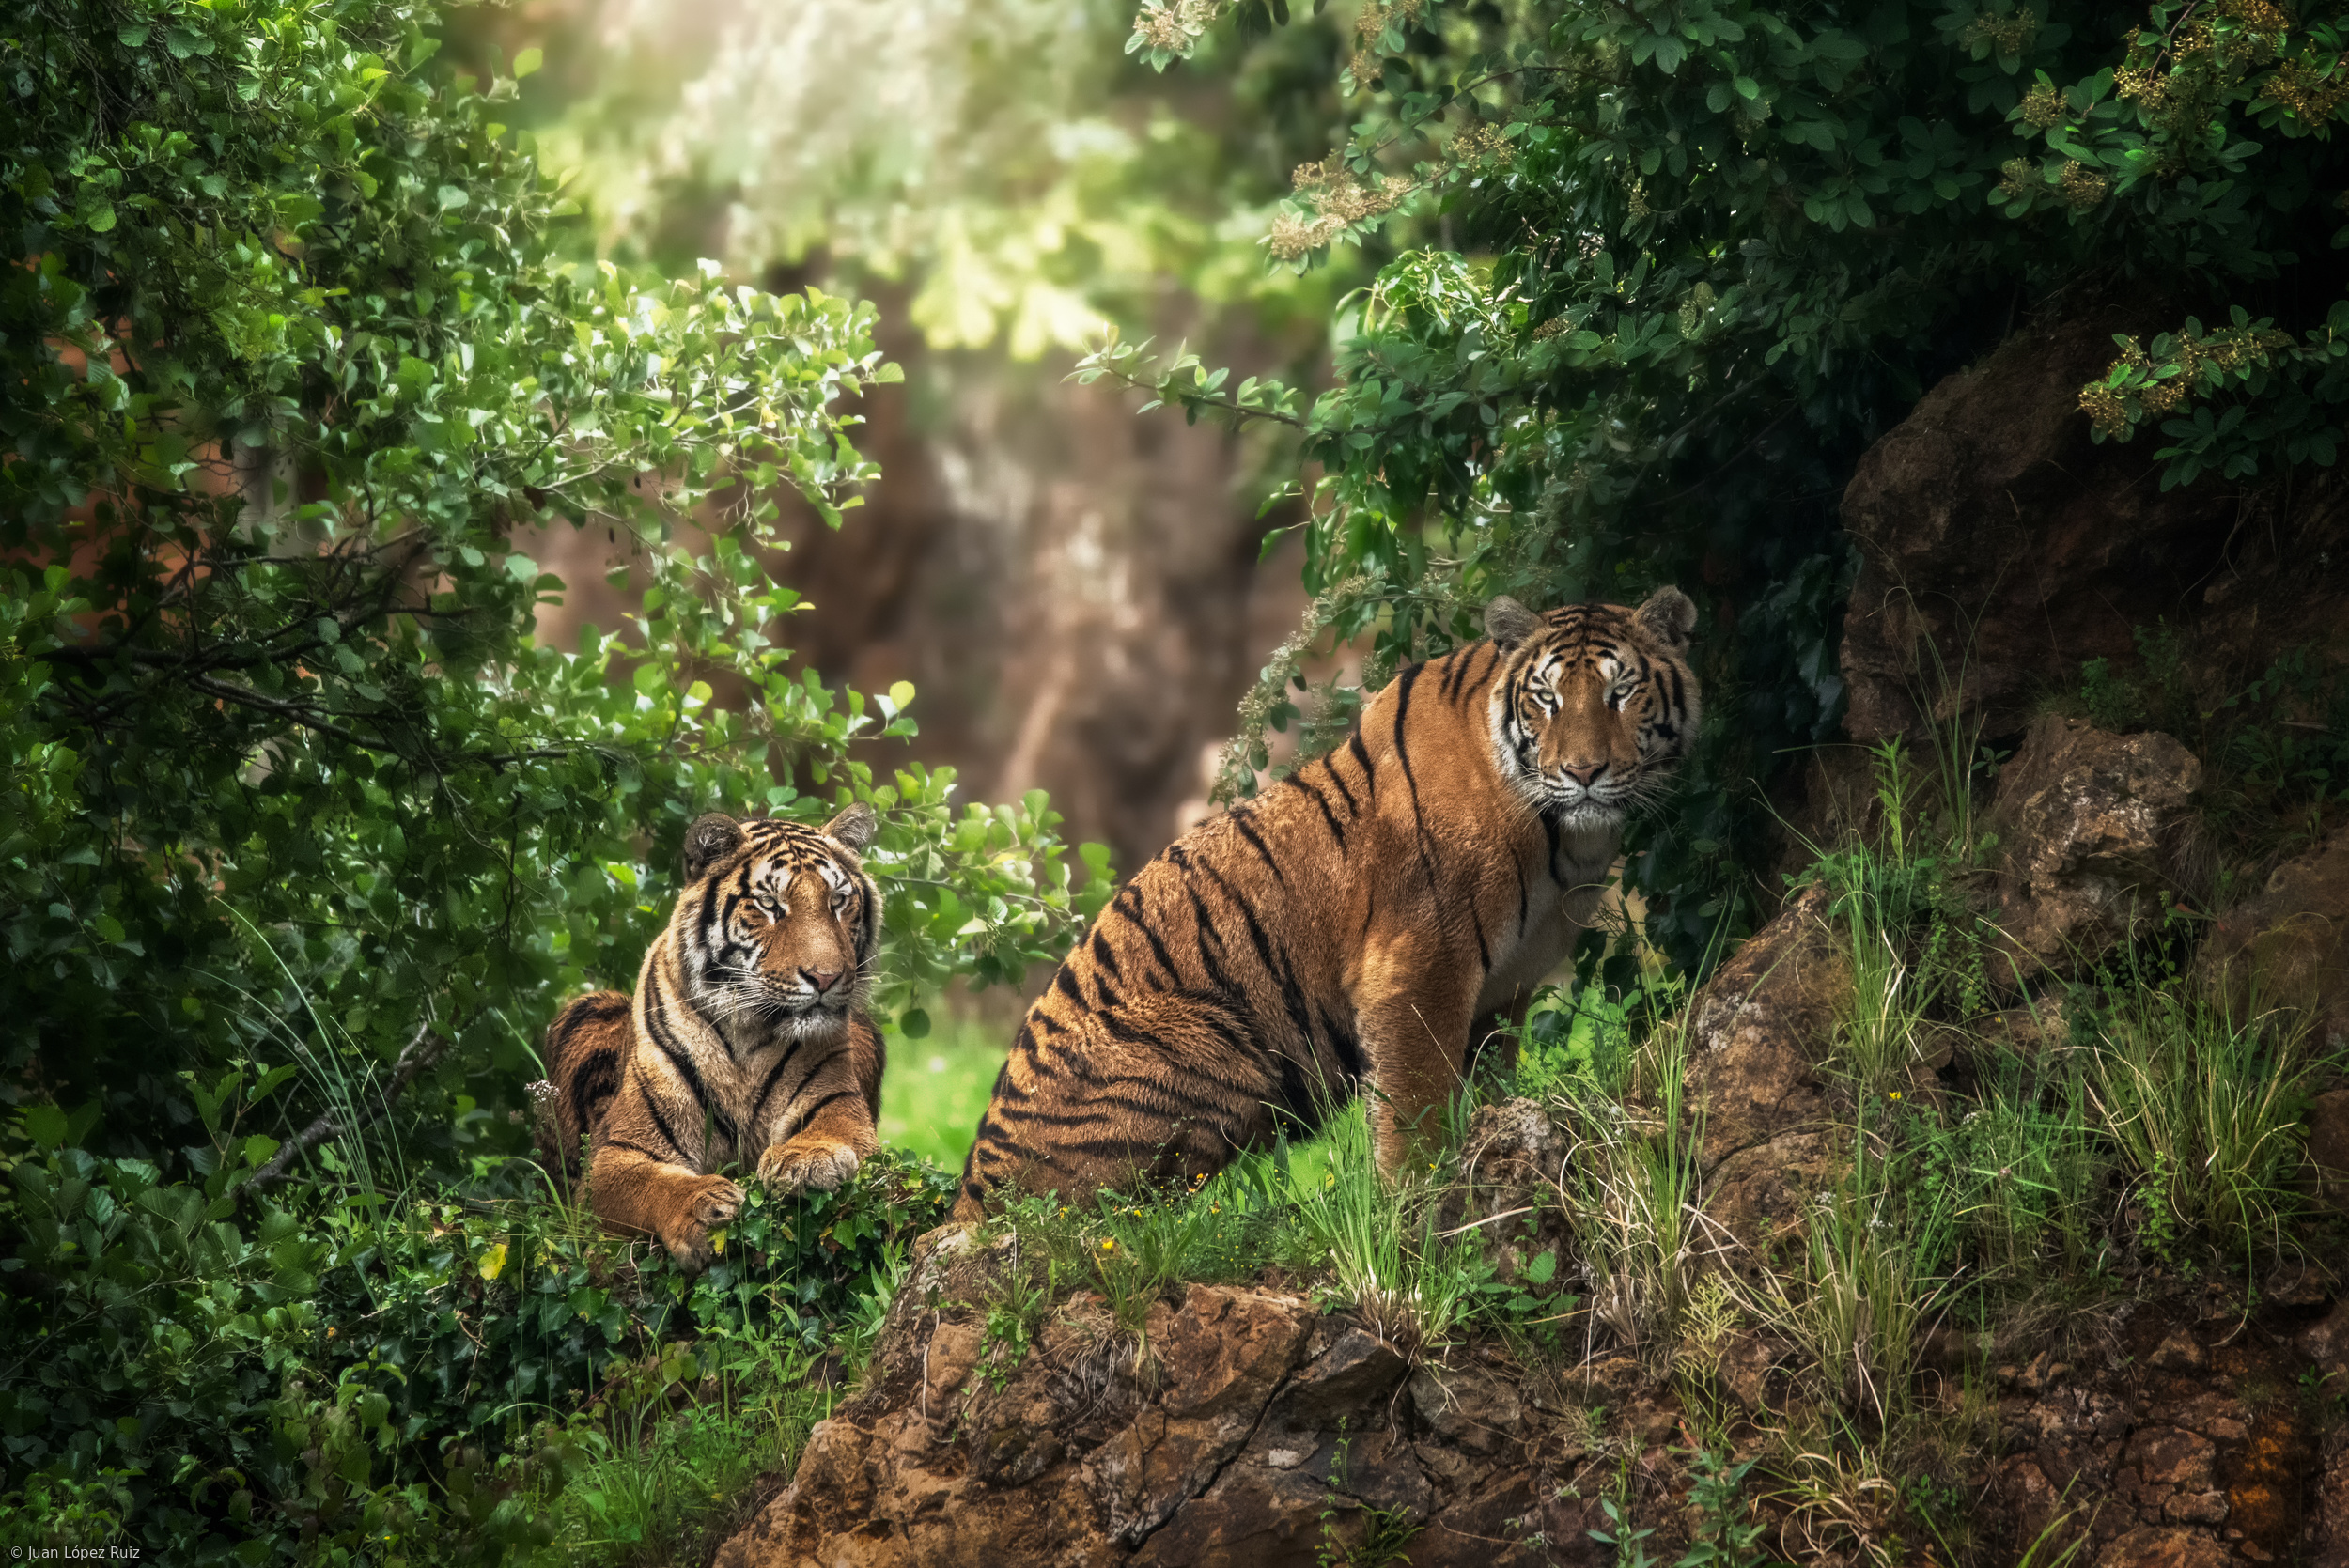tiger: (933, 577, 1808, 1281), (578, 737, 956, 1295)
